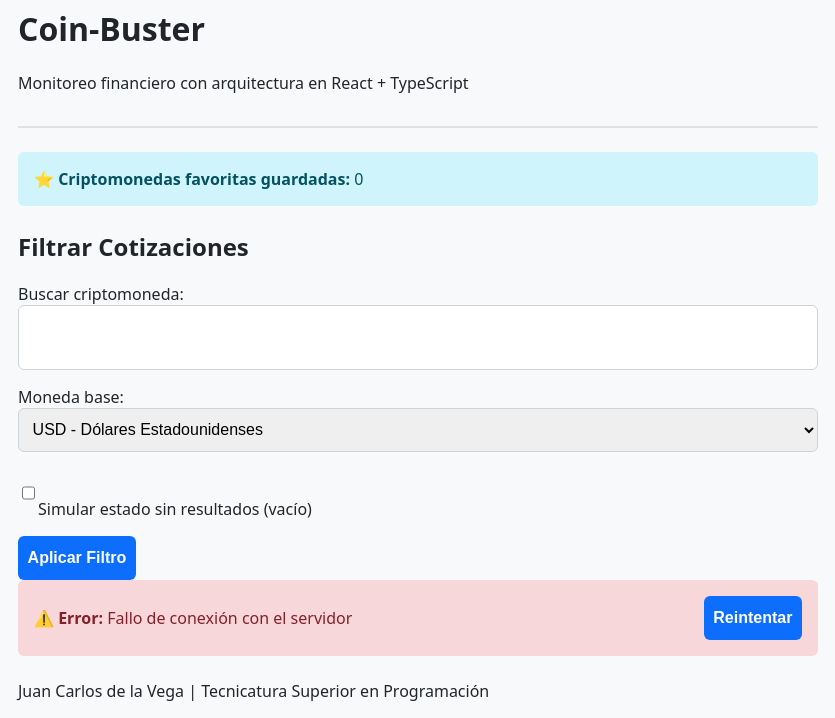
Test: Coin-Buster - Pruebas de comportamiento observable › Caso C: muestra mensaje de error y permite reintentar la consulta
The image size is (835, 718).
Expected: the text "⚠️ Error: Fallo de conexión con el servidor" is shown, 34,607 -> 352,629
Note: Pulsar Reintentar y comprobar recuperación
Click the button "Reintentar" at (753, 618), box 704,596 -> 802,640
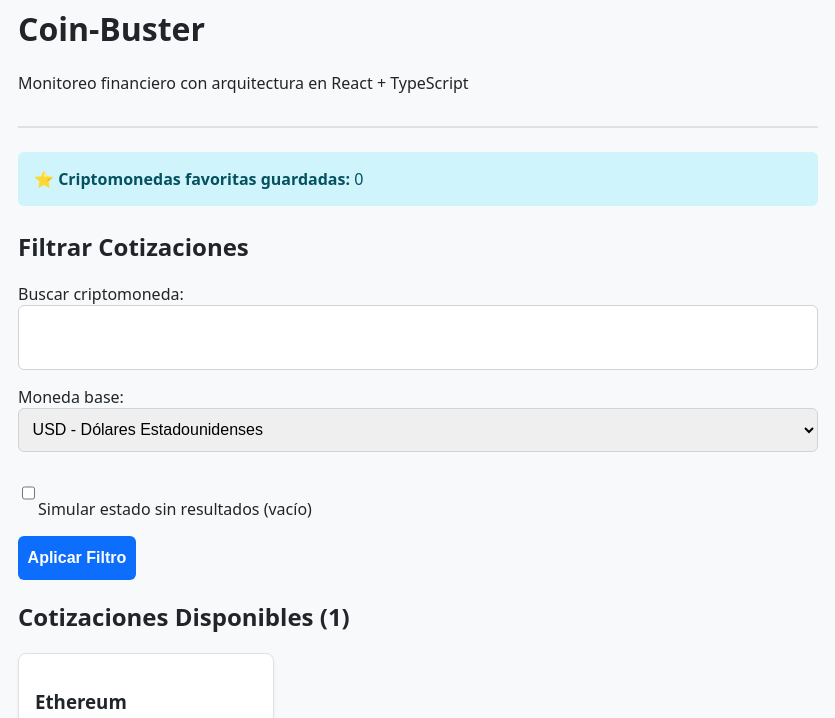
Now the heading "Ethereum" is shown, box 35,688 -> 127,714
